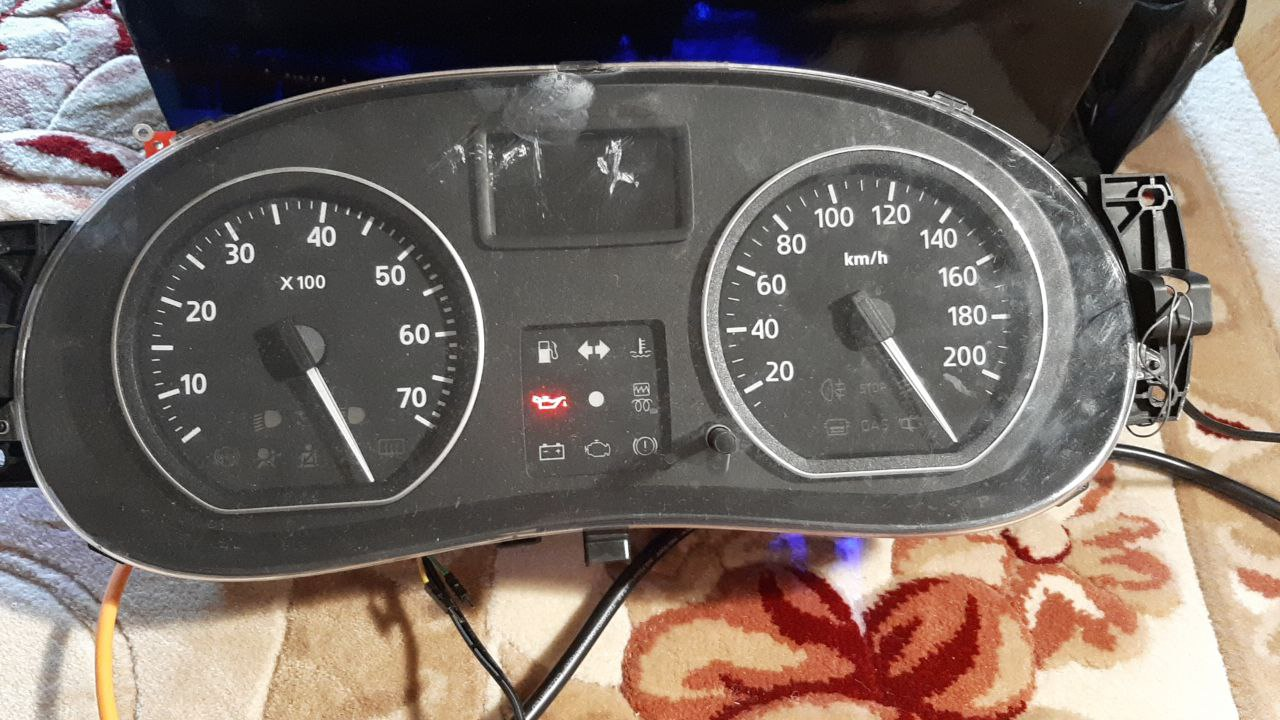oil: (526, 383, 572, 413)
